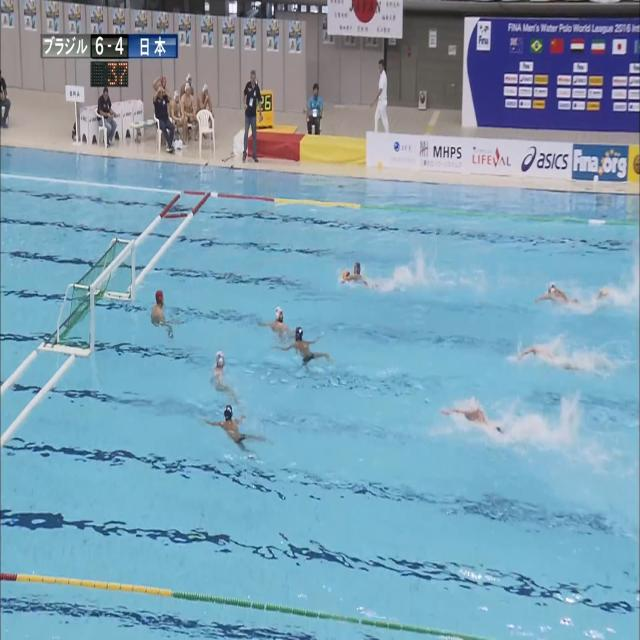ball: (343, 270, 350, 279)
